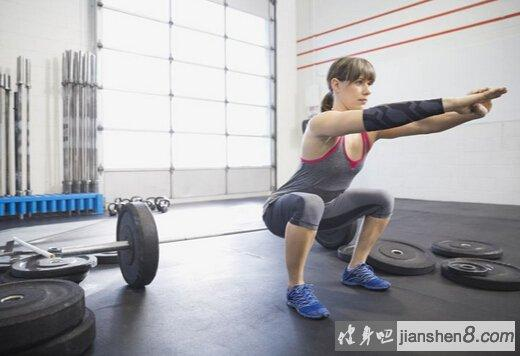Squat: (261, 55, 507, 319)
